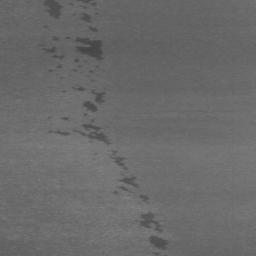Iron scale compression: (142, 213, 169, 248), (72, 86, 104, 112), (117, 175, 149, 201), (79, 124, 108, 143), (75, 37, 100, 55), (45, 0, 61, 19), (112, 150, 123, 166), (81, 13, 91, 23), (45, 45, 56, 54), (56, 131, 69, 135)
